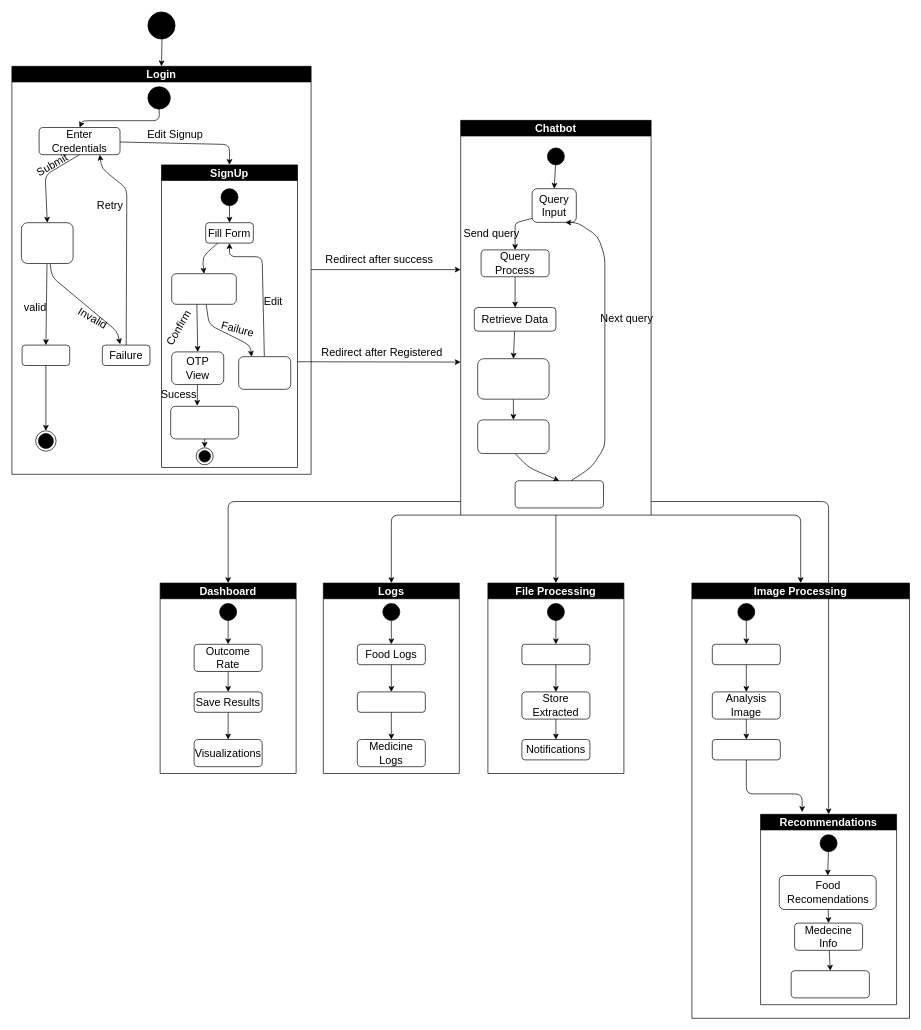
The diagram is 921 pixels wide and 1030 high, and some of its shapes have lost their labels. Each missing label, with the centre of its shape:
"Ache Logs" goes at [391,701].
"Attention to Curr Conversation" goes at [559,494].
"Creat Account" goes at [203,288].
"Display Response" goes at [513,436].
"Form Error" goes at [264,372].
"Generate Answer" goes at [513,378].
"Insert Image" goes at [746,654].
"Notification Alerts" goes at [829,984].
"Parse Files" goes at [555,654].
"Registered" goes at [204,422].
"Store Info" goes at [746,749].
"Success" goes at [45,355].
"Validate data & OTP" goes at [47,243].
